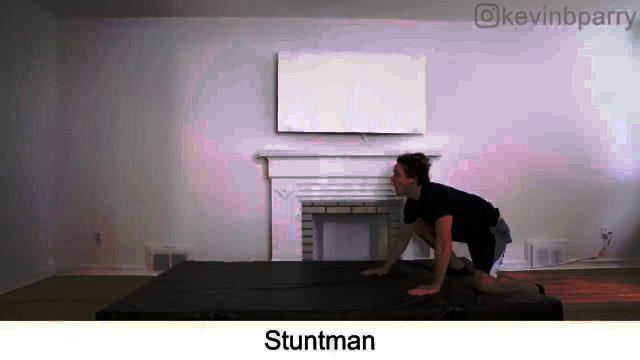jatuh: (346, 148, 560, 312)
